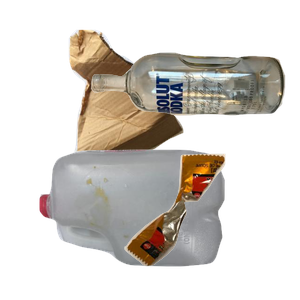cardboard: (66, 27, 242, 197)
glass: (88, 50, 300, 158)
plastic: (37, 147, 254, 300)
trash: (122, 151, 300, 300)
